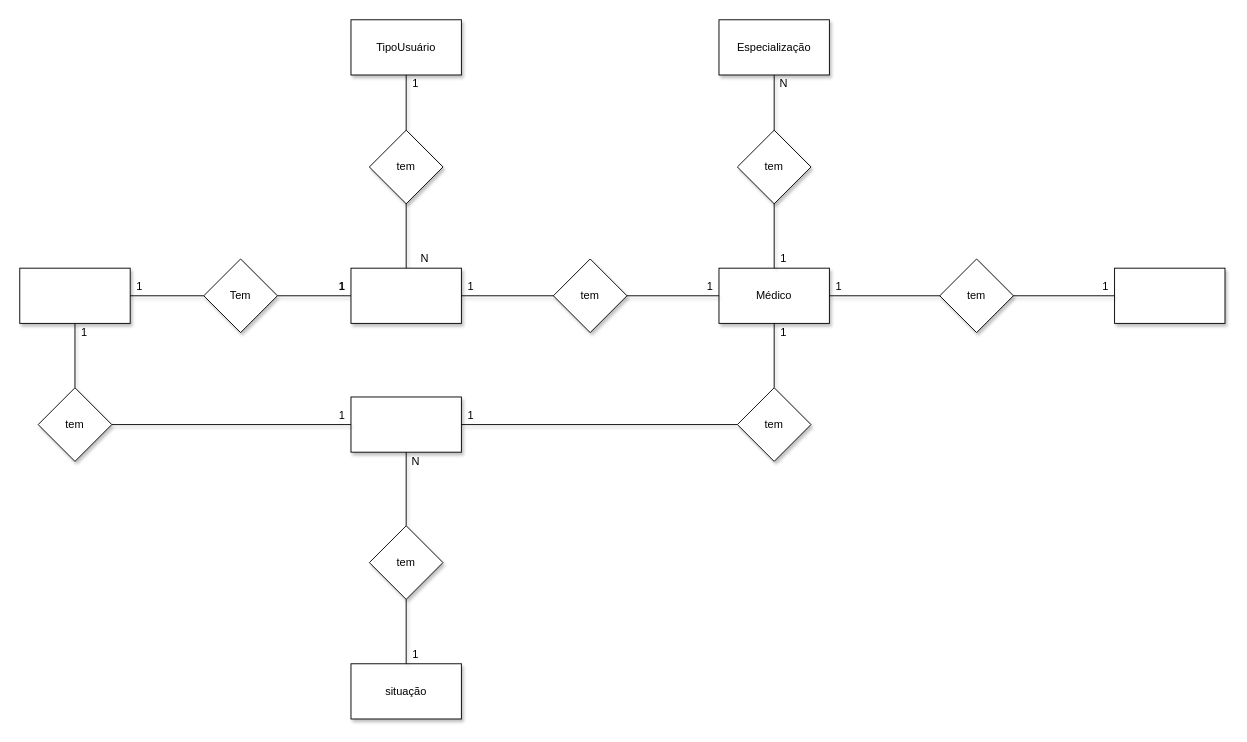
Image size: 1247x742. Some labels were removed from this diagram. Here are the shapes that lost their labels. From the top down, the centre of each, then its label:
At [75,297]: "Cliente".
At [406,297]: "Usuário".
At [1170,297]: "Clínica".
At [406,425]: "Consulta".
